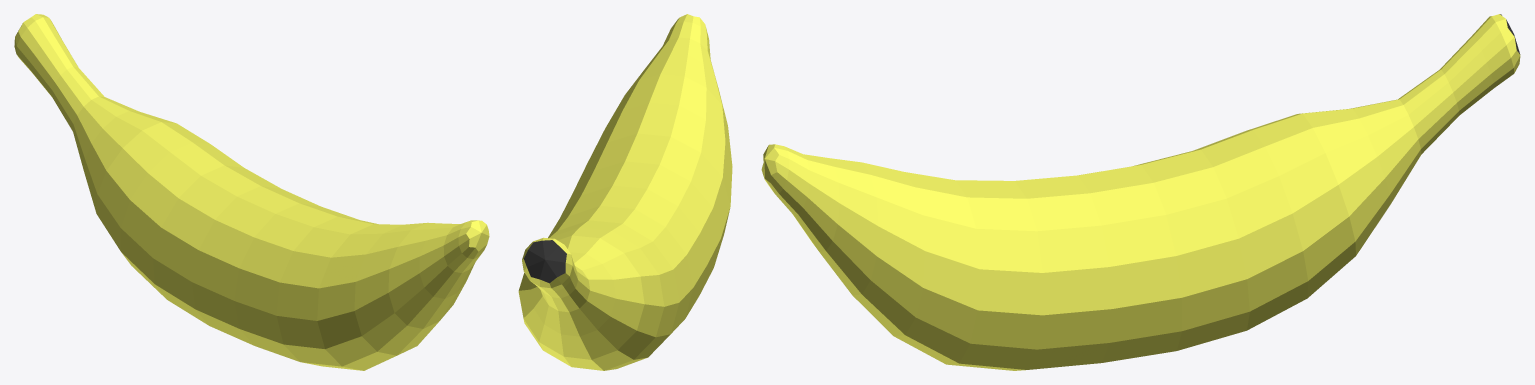
File: banana.glb
3 views of the same model, side by side, from view 1: azimuth 30°, elevation 25°; view 2: azimuth 150°, elevation 25°; view 3: azimuth 270°, elevation 25° (orthographic). The views are drawn at different scales.
Visible parts, largest first — view 1: node-0; view 2: node-0; view 3: node-0.
Boxes of the visible parts, x1,y1,x2,y2 form: node-0: [14, 14, 489, 370]; node-0: [518, 14, 732, 370]; node-0: [761, 14, 1520, 370].
Size of the model in its own units: 242 by 262 by 630.
